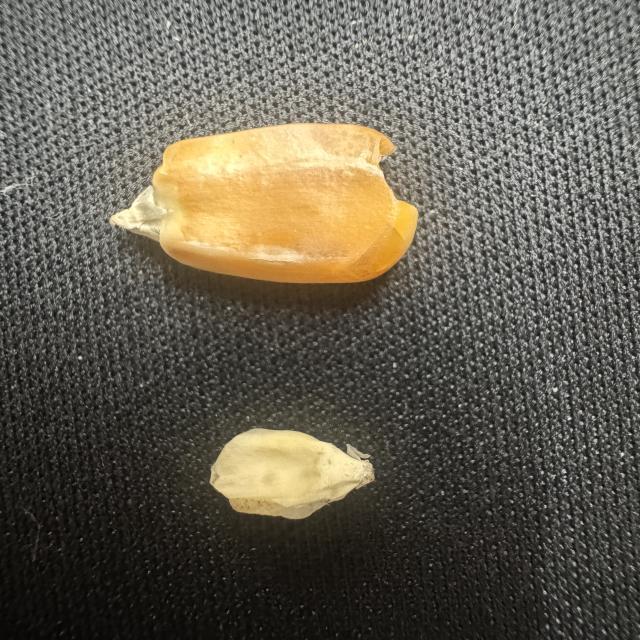Bad-Seed: (104, 111, 436, 312), (206, 415, 392, 532)
